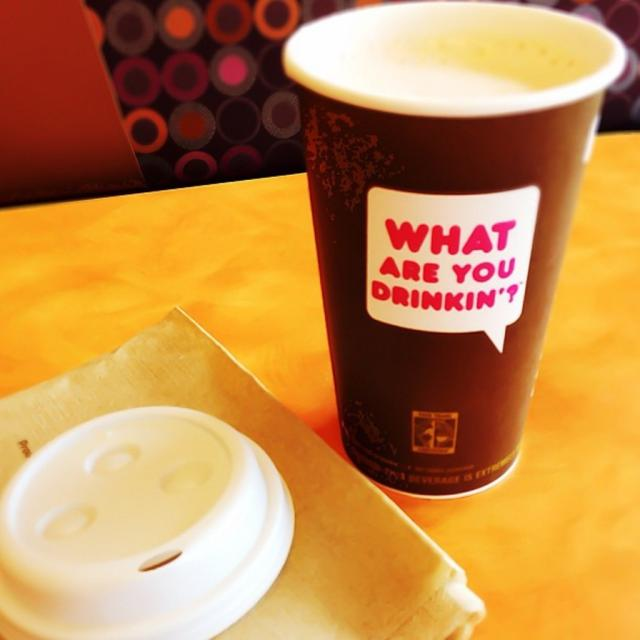Coffee: (288, 24, 618, 534)
